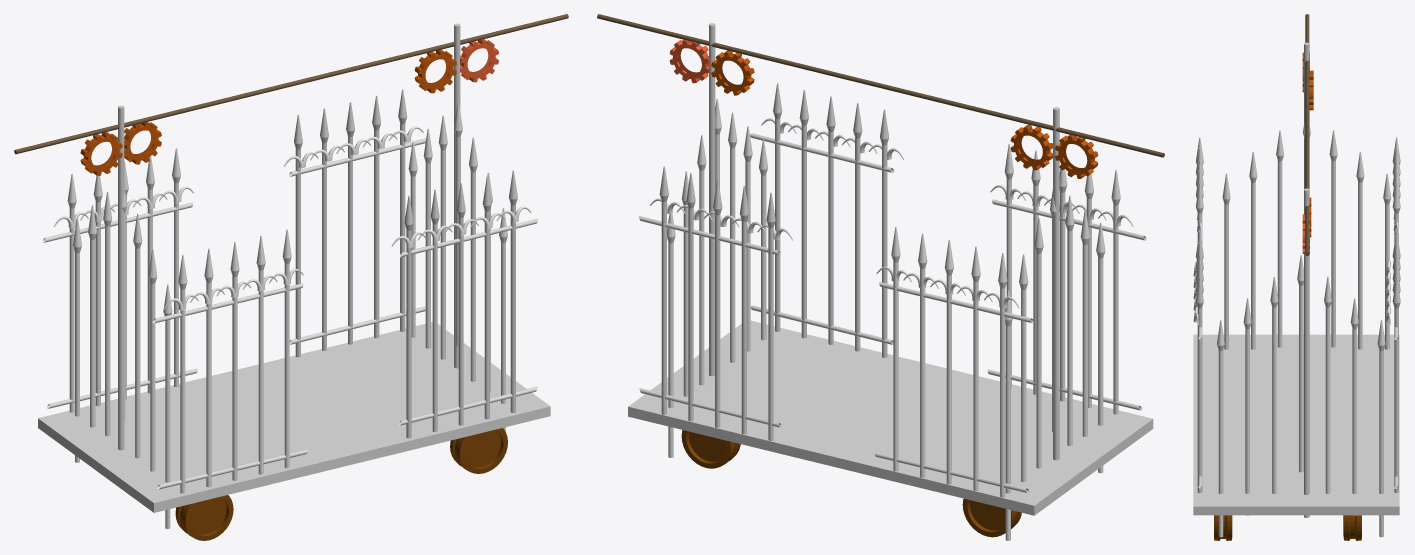
File: Fence10completelyFlat.fbx
The picture shows the model from 3 angles, left to right: view 1: azimuth 30°, elevation 25°; view 2: azimuth 150°, elevation 25°; view 3: azimuth 270°, elevation 25°; orthographic projection. The views are drawn at different scales.
Parts seen in each view (by area): view 1: Cube, Cylinder.001, Cylinder.015, Cylinder, Cylinder.016, Cylinder.017, Cylinder.003, Cylinder.012, Cylinder.018, Cylinder.019, Gear.001, Gear.003 (+6 smaller); view 2: Cube, Cylinder.001, Cylinder.015, Cylinder, Cylinder.016, Cylinder.003, Cylinder.012, Cylinder.017, Cylinder.019, Cylinder.018, Gear.002, Gear.003 (+6 smaller); view 3: Cube, Cylinder.016, Cylinder, Cylinder.001, Cylinder.003, Cylinder.015, Cylinder.012, Cylinder.017, BezierCurve.005.
Boxes of the visible parts, <box> form: Cube: <box>38,322,550,512</box>; Cylinder.001: <box>294,89,517,438</box>; Cylinder.015: <box>67,148,291,493</box>; Cylinder: <box>73,187,172,528</box>; Cylinder.016: <box>408,102,507,431</box>; Cylinder.017: <box>175,428,507,540</box>; Cylinder.003: <box>118,23,460,450</box>; Cylinder.012: <box>14,14,568,154</box>; Cylinder.018: <box>42,202,307,489</box>; Cylinder.019: <box>289,138,538,425</box>; Gear.001: <box>80,132,122,175</box>; Gear.003: <box>414,49,456,93</box>; Cube: <box>628,320,1153,515</box>; Cylinder.001: <box>659,83,888,440</box>; Cylinder.015: <box>891,143,1120,497</box>; Cylinder: <box>1005,190,1105,540</box>; Cylinder.016: <box>667,98,767,457</box>; Cylinder.003: <box>709,23,1059,460</box>; Cylinder.012: <box>597,14,1164,157</box>; Cylinder.017: <box>681,430,1021,537</box>; Cylinder.019: <box>638,133,894,427</box>; Cylinder.018: <box>874,199,1146,493</box>; Gear.002: <box>1010,124,1052,170</box>; Gear.003: <box>711,50,754,95</box>; Cube: <box>1193,334,1399,515</box>; Cylinder.016: <box>1217,255,1385,537</box>; Cylinder: <box>1222,118,1391,349</box>; Cylinder.001: <box>1195,232,1400,493</box>; Cylinder.003: <box>1304,42,1309,517</box>; Cylinder.015: <box>1196,137,1400,244</box>; Cylinder.012: <box>1305,14,1309,256</box>; Cylinder.017: <box>1214,515,1361,540</box>; BezierCurve.005: <box>1386,260,1390,324</box>.
Bounding box in the file's own units: 804 × 564 × 294.
